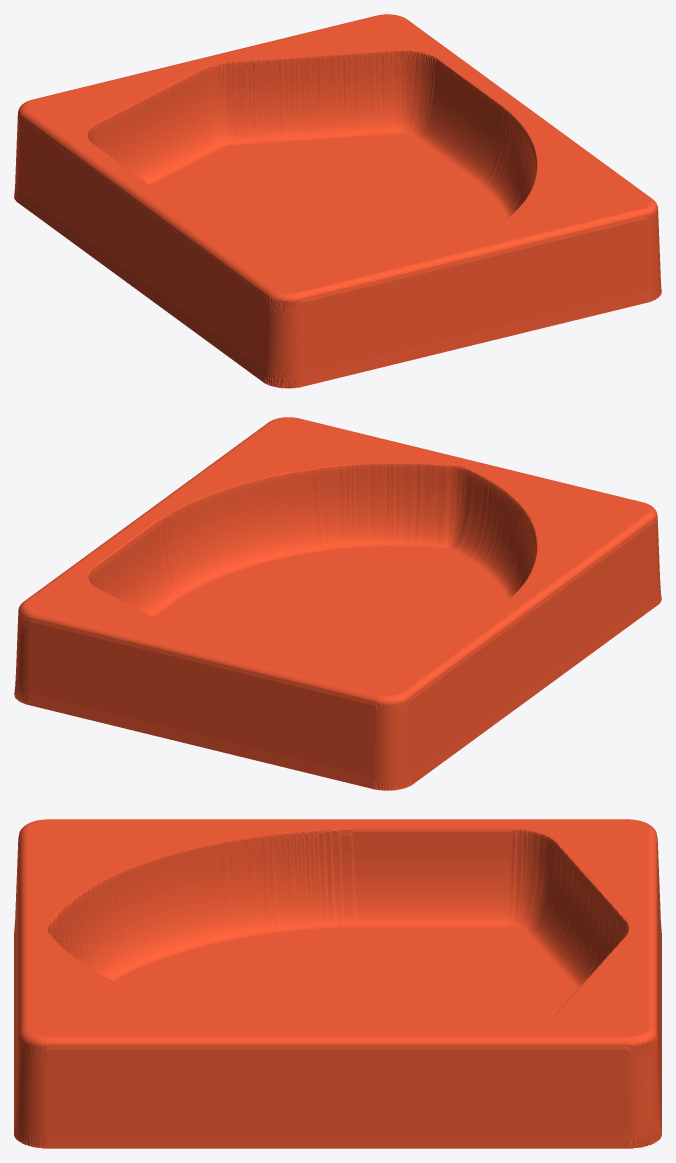
Rendered from mold.glb.
3 renders of one model, top to bottom at view 1: azimuth 30°, elevation 25°; view 2: azimuth 150°, elevation 25°; view 3: azimuth 270°, elevation 25°, orthographic. The views are drawn at different scales.
Parts seen in each view (by area): view 1: geometry_0; view 2: geometry_0; view 3: geometry_0.
Part boxes in pixels (x1,y1,x2,y2): geometry_0: (14,14,661,388); geometry_0: (14,417,661,790); geometry_0: (14,819,661,1148).
Bounding box in the file's own units: 0.142 × 0.031 × 0.1709.
